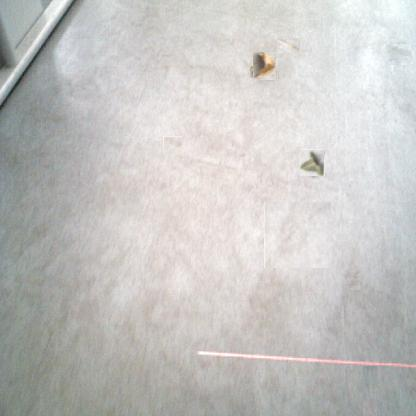dirty: (298, 150, 325, 176), (251, 53, 277, 79), (276, 37, 300, 53)
mark: (264, 203, 331, 268), (363, 366, 377, 416), (387, 41, 409, 63), (345, 272, 362, 288), (163, 136, 182, 149)
